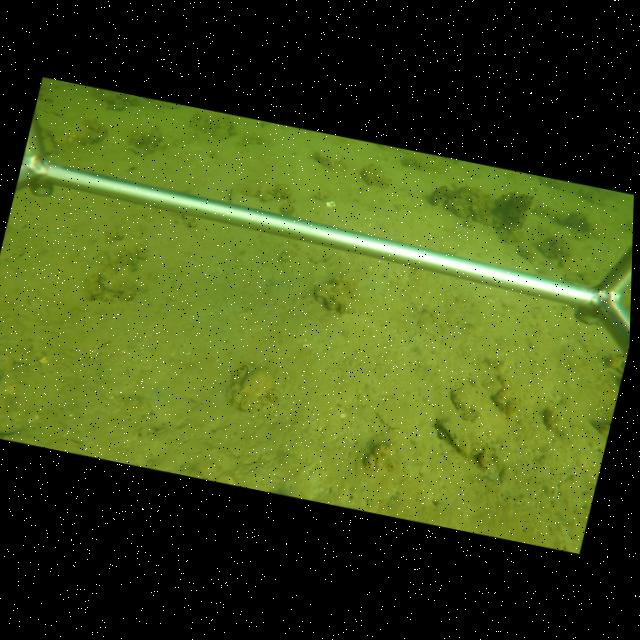Oyster-Open: (431, 419, 474, 458)
